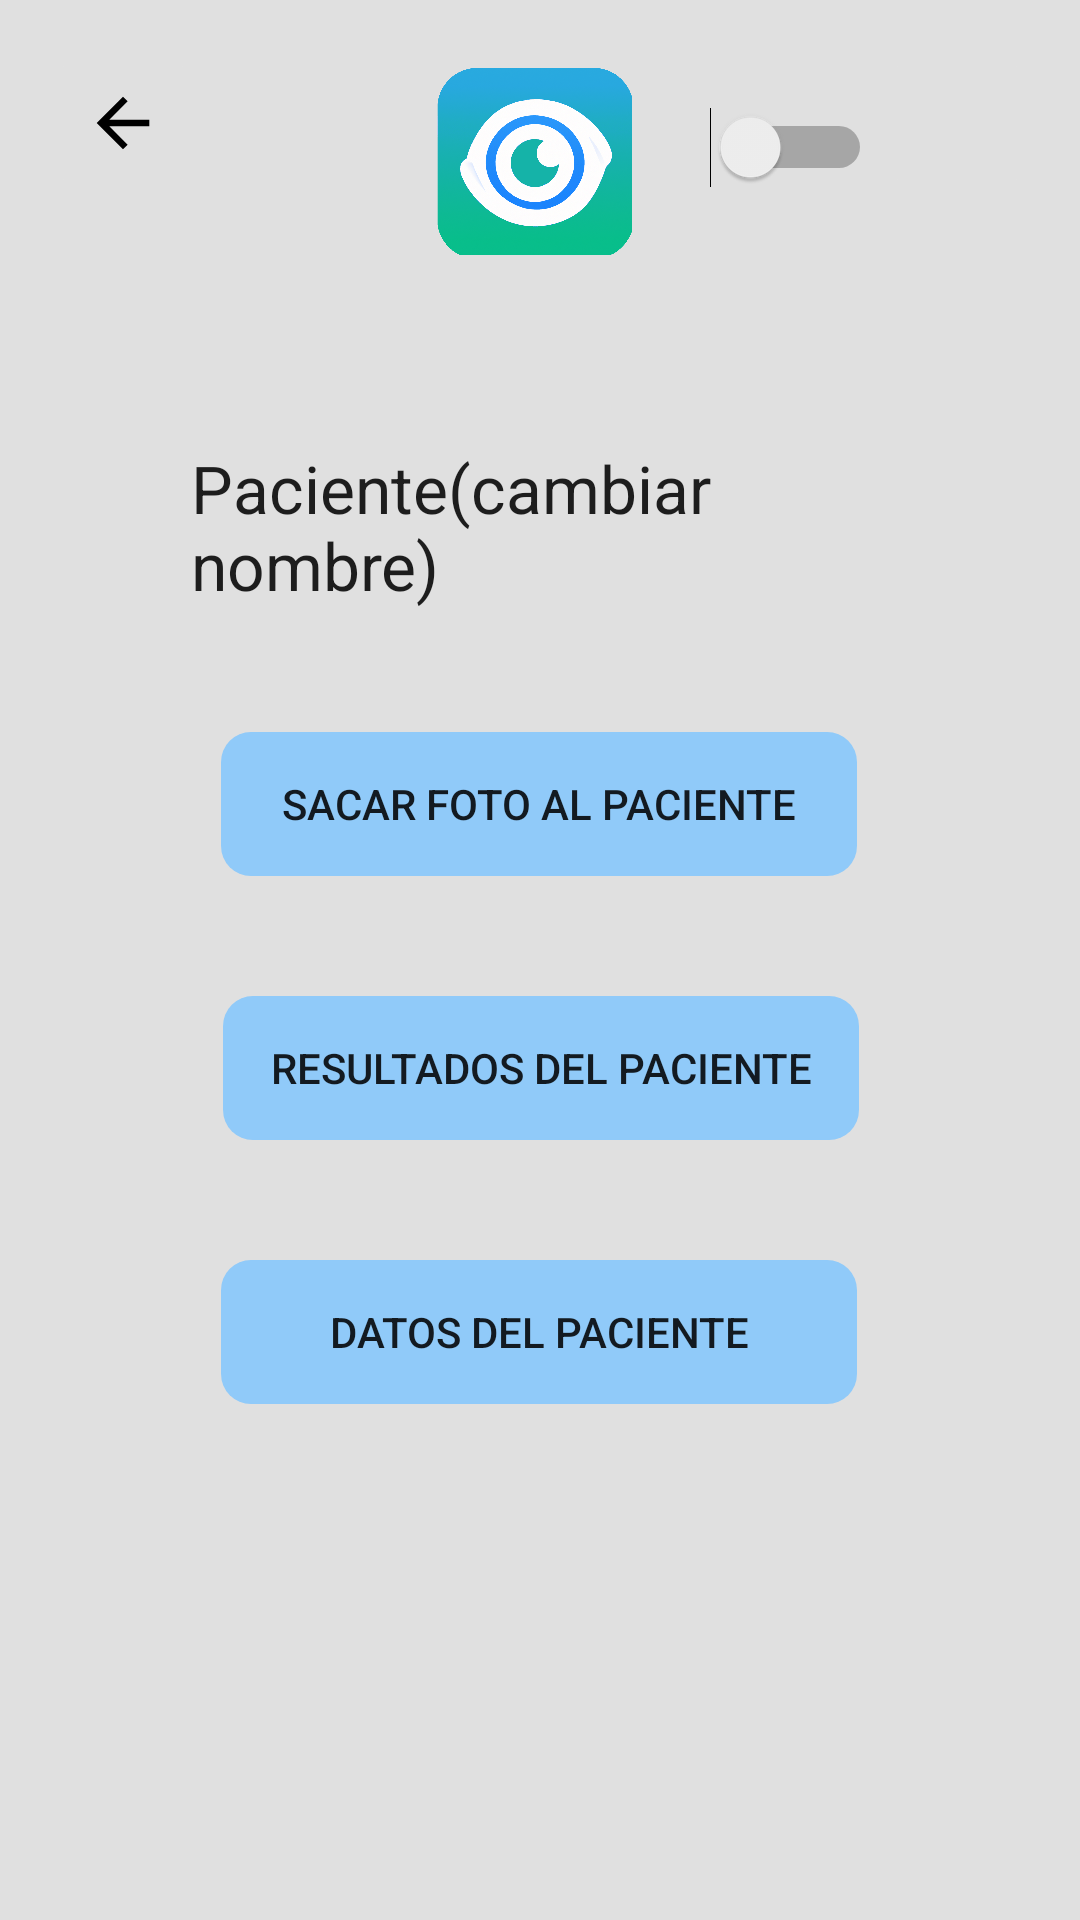

Icon click points for this 1080px x 1920px phone screenshot, format point (x, y):
back: point (123, 123)
